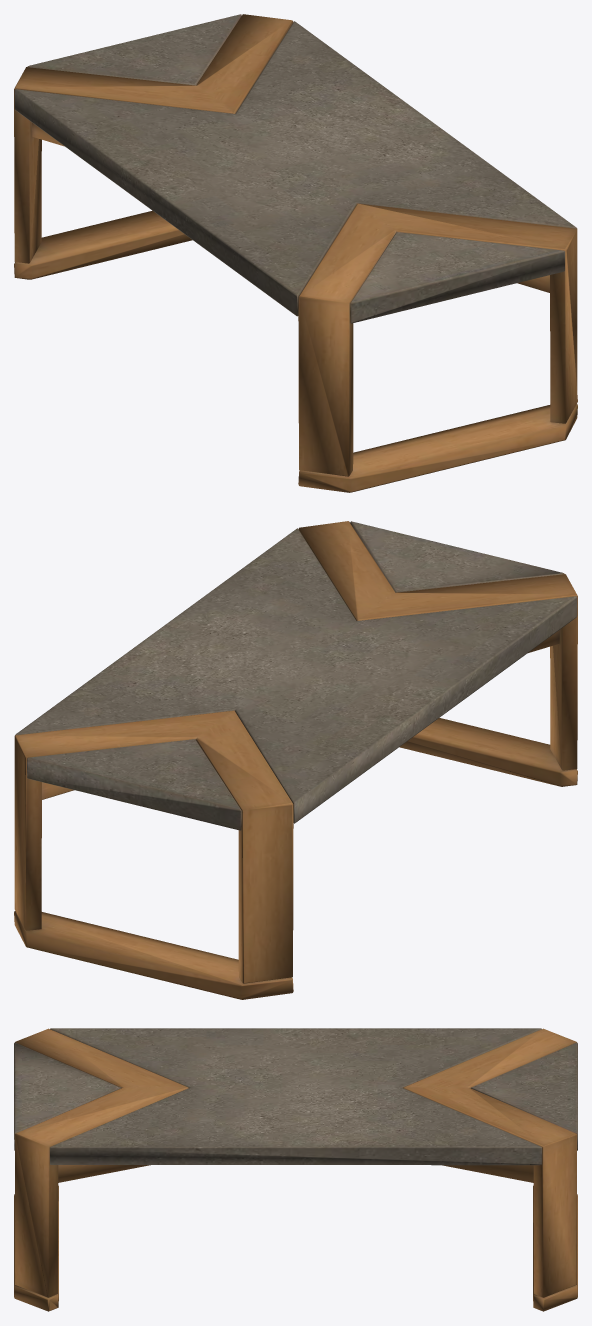
The picture shows the model from 3 angles, top to bottom: view 1: azimuth 30°, elevation 25°; view 2: azimuth 150°, elevation 25°; view 3: azimuth 270°, elevation 25°; orthographic projection. The views are drawn at different scales.
Visible parts, largest first — view 1: modern_coffee_table_01; view 2: modern_coffee_table_01; view 3: modern_coffee_table_01.
Part boxes in pixels (x1,y1,x2,y2): modern_coffee_table_01: (14, 14, 577, 492); modern_coffee_table_01: (14, 521, 577, 999); modern_coffee_table_01: (14, 1028, 577, 1311).
Size of the model in its own units: 0.5999 by 0.39 by 1.2.
Materials: 1 (1 with a texture image).
